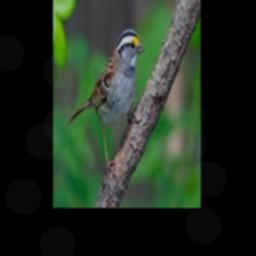Sparrow: (66, 28, 144, 178)
